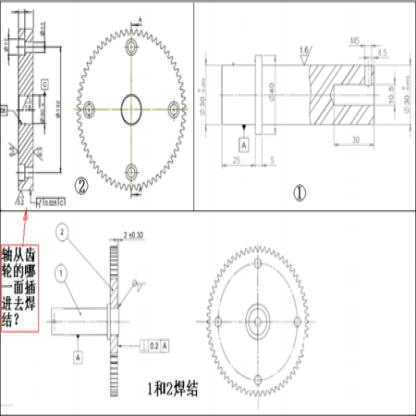FOD: (74, 25, 188, 196)
